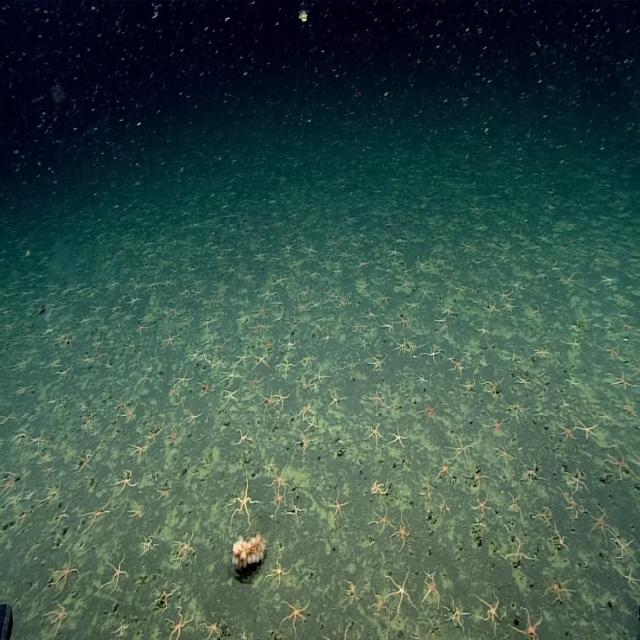brittle-stars: (230, 473, 258, 526), (386, 572, 414, 616), (50, 553, 81, 592), (82, 498, 113, 532), (280, 597, 308, 632), (514, 608, 544, 640), (102, 554, 127, 590), (477, 592, 502, 628), (586, 507, 610, 544), (165, 609, 193, 640), (604, 448, 629, 481), (268, 554, 292, 588), (507, 535, 533, 565), (547, 576, 573, 605), (174, 531, 196, 565), (614, 534, 638, 565), (45, 600, 68, 632), (392, 514, 412, 550), (448, 599, 470, 631), (371, 506, 394, 536), (48, 502, 71, 532), (325, 490, 348, 519), (560, 487, 582, 517), (113, 470, 138, 496), (450, 437, 474, 464), (154, 583, 177, 610), (372, 590, 392, 620), (422, 580, 442, 609), (574, 415, 597, 440), (469, 494, 492, 517), (612, 372, 636, 394), (466, 465, 490, 487), (566, 468, 587, 493), (271, 464, 291, 490), (0, 470, 20, 496), (436, 454, 454, 482), (202, 616, 222, 640), (522, 460, 541, 485), (621, 566, 640, 591), (365, 421, 383, 447), (485, 414, 506, 436), (296, 433, 317, 455), (420, 401, 440, 424), (495, 443, 514, 467), (389, 426, 408, 450), (483, 377, 503, 398), (557, 420, 576, 442), (75, 452, 93, 475), (272, 488, 289, 512), (129, 442, 149, 462), (509, 403, 530, 422), (174, 368, 193, 388), (221, 366, 240, 386), (128, 500, 147, 520), (141, 533, 157, 556), (288, 499, 304, 522), (372, 478, 390, 498), (342, 354, 360, 374), (423, 343, 440, 364), (184, 409, 202, 428), (222, 386, 239, 406), (369, 390, 386, 410), (274, 388, 290, 409), (449, 355, 465, 376), (349, 320, 367, 338), (30, 433, 48, 451), (517, 373, 534, 392), (327, 388, 343, 408), (277, 358, 295, 375), (369, 353, 386, 371), (236, 426, 253, 444), (299, 402, 316, 420), (261, 285, 279, 302), (122, 406, 138, 425), (246, 373, 262, 392), (302, 349, 318, 368), (156, 483, 172, 502), (166, 425, 180, 446), (252, 352, 269, 369), (200, 380, 216, 398), (395, 314, 411, 332), (532, 345, 550, 361), (387, 395, 402, 414), (282, 335, 297, 353), (146, 425, 160, 444), (264, 390, 277, 410), (496, 286, 512, 302), (566, 337, 582, 353), (250, 319, 266, 335), (355, 278, 370, 295), (460, 378, 475, 395), (305, 417, 320, 434), (376, 289, 391, 306), (164, 332, 178, 350), (236, 349, 250, 367), (294, 299, 308, 317), (485, 297, 500, 313), (93, 301, 108, 317), (416, 370, 430, 387), (440, 304, 455, 319), (381, 319, 395, 335), (40, 449, 54, 465), (42, 462, 56, 478), (212, 353, 225, 370), (393, 338, 406, 355), (392, 234, 407, 248), (274, 274, 288, 288), (253, 248, 266, 263), (338, 297, 351, 311), (304, 378, 316, 393)
